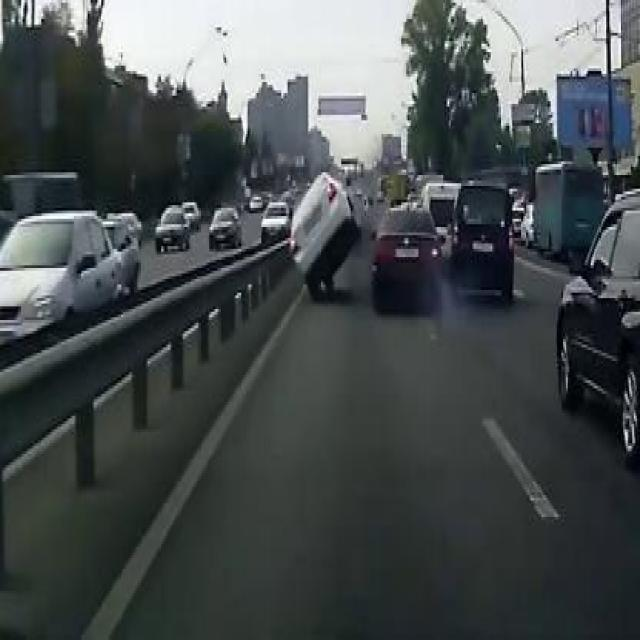accident: (286, 170, 372, 304)
